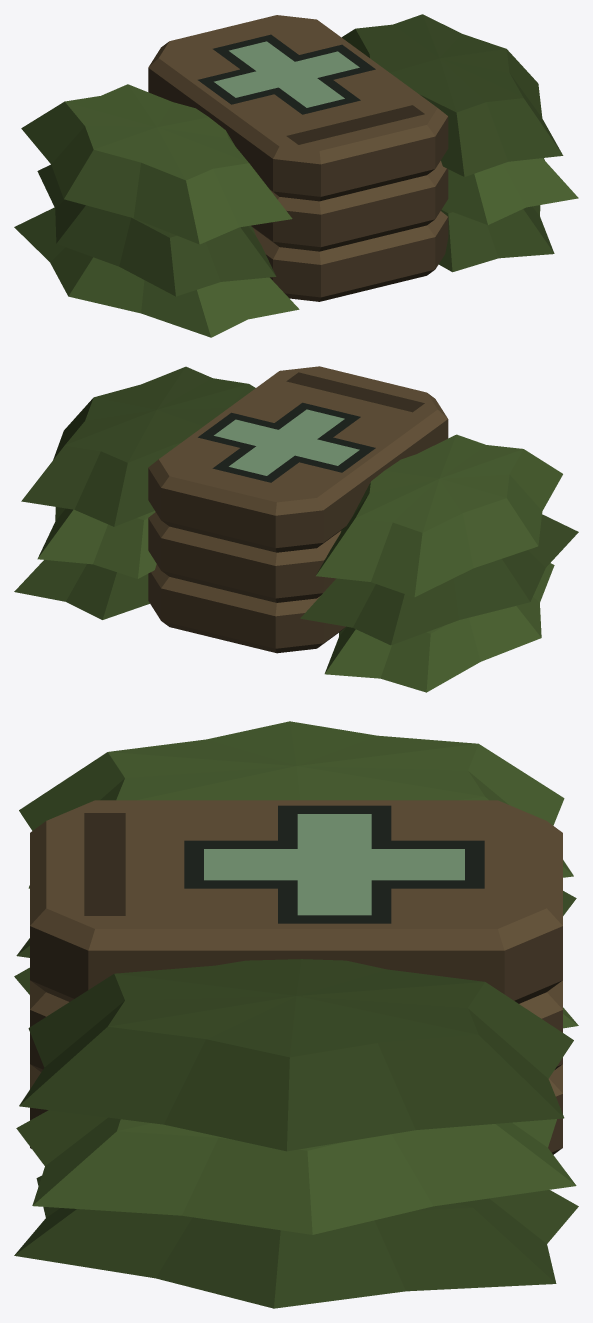
The model's file is item_medicine_herbal_c.obj.
3 views of the same model, one above another, from view 1: azimuth 30°, elevation 25°; view 2: azimuth 150°, elevation 25°; view 3: azimuth 270°, elevation 25° (orthographic). The views are drawn at different scales.
Size of the model in its own units: 0.8984 by 0.2729 by 0.5556.
